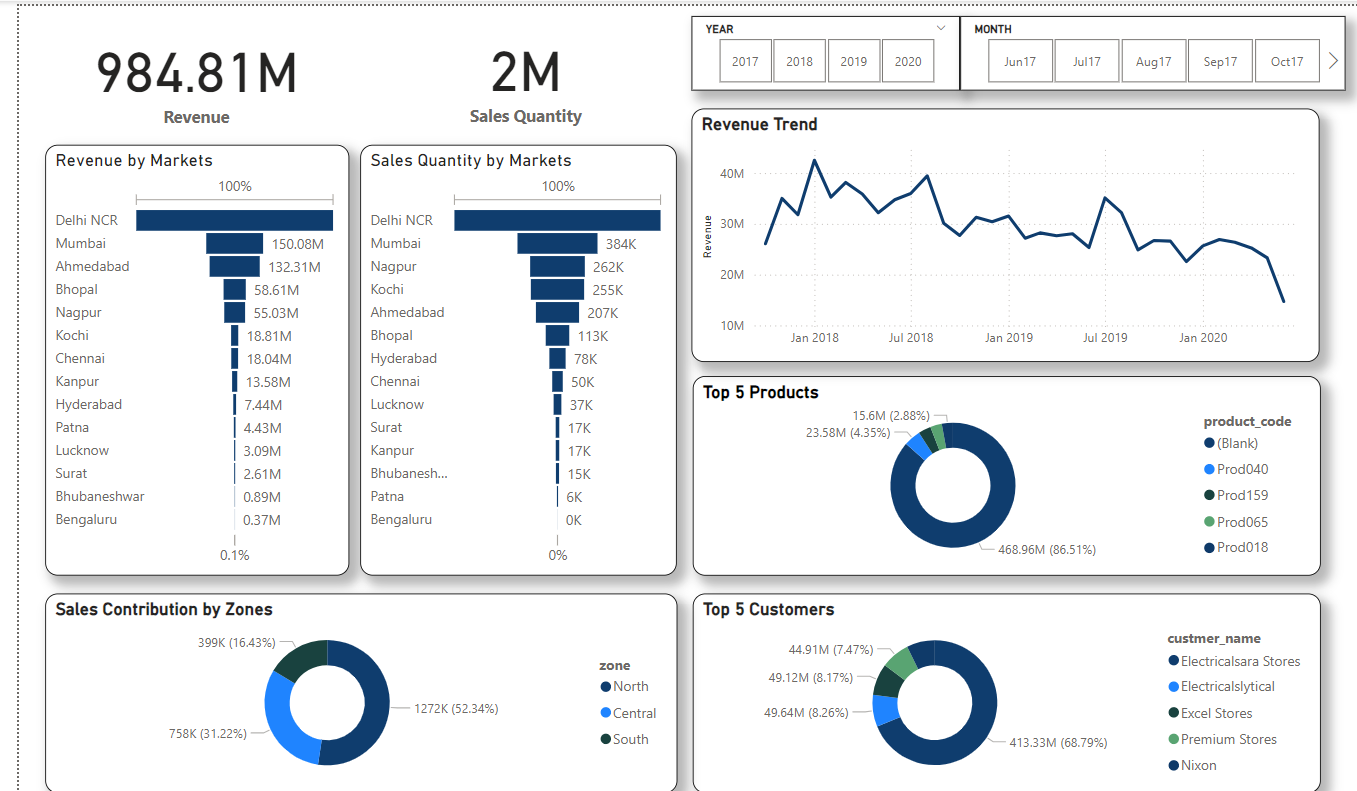

This screenshot's page, from the dashboard's own definition file:
{"tool":"powerbi","page":{"name":"Page 1","canvas":[1298,771],"ordinal":0},"visuals":[{"type":"card","fields":{"Values":["basemeasures (2).Sales Quantity"]},"box":[403.3,49.8,172.8,133.6],"z":0},{"type":"card","fields":{"Values":["basemeasures (2).Revenue"]},"box":[58.9,66.8,226.5,99.5],"z":1000},{"type":"funnel","title":"Revenue by Markets","fields":{"Category":["sales markets.markets_name","sales customers.custmer_name"],"Y":["basemeasures (2).Revenue"]},"box":[24.9,183.3,293.3,366.6],"z":2000},{"type":"funnel","title":"Sales Quantity by Markets","fields":{"Category":["sales markets.markets_name","sales customers.custmer_name"],"Y":["basemeasures (2).Sales Quantity"]},"box":[343.1,183.3,292,366.6],"z":3000},{"type":"slicer","fields":{"Values":["sales date.year"]},"box":[649.5,9.2,259.3,72],"z":4000},{"type":"slicer","fields":{"Values":["sales date.cy_date"]},"box":[908.8,9.2,371.9,72],"z":5000},{"type":"donutChart","title":"Top 5 Customers","fields":{"Category":["sales customers.custmer_name"],"Y":["basemeasures (2).Revenue"]},"box":[650.8,567,606.3,192.5],"z":6000},{"type":"donutChart","title":"Top 5 Products","fields":{"Category":["sales products.product_code"],"Y":["basemeasures (2).Revenue"]},"box":[650.8,357.5,606.3,192.5],"z":7000},{"type":"lineChart","title":"Revenue Trend","fields":{"Y":["basemeasures (2).Revenue"],"Category":["sales date.cy_date"]},"box":[649.5,99.5,606.3,244.9],"z":8000},{"type":"donutChart","title":"Sales Contribution by Zones","fields":{"Category":["sales markets.zone","sales markets.markets_name"],"Y":["basemeasures (2).Sales Quantity"]},"box":[24.9,567,610.2,192.5],"z":9000}]}

Visuals, with their boxes in screenshot pixels (x1, y1, x2, y2), scaled from the page's 1298x771 canvas onto the 1357x791 screenshot:
card - basemeasures (2).Sales Quantity: {"left": 422, "top": 51, "right": 602, "bottom": 188}
card - basemeasures (2).Revenue: {"left": 62, "top": 69, "right": 298, "bottom": 171}
"Revenue by Markets" funnel: {"left": 26, "top": 188, "right": 333, "bottom": 564}
"Sales Quantity by Markets" funnel: {"left": 359, "top": 188, "right": 664, "bottom": 564}
slicer - sales date.year: {"left": 679, "top": 9, "right": 950, "bottom": 83}
slicer - sales date.cy_date: {"left": 950, "top": 9, "right": 1339, "bottom": 83}
"Top 5 Customers" donutChart: {"left": 680, "top": 582, "right": 1314, "bottom": 779}
"Top 5 Products" donutChart: {"left": 680, "top": 367, "right": 1314, "bottom": 564}
"Revenue Trend" lineChart: {"left": 679, "top": 102, "right": 1313, "bottom": 353}
"Sales Contribution by Zones" donutChart: {"left": 26, "top": 582, "right": 664, "bottom": 779}
